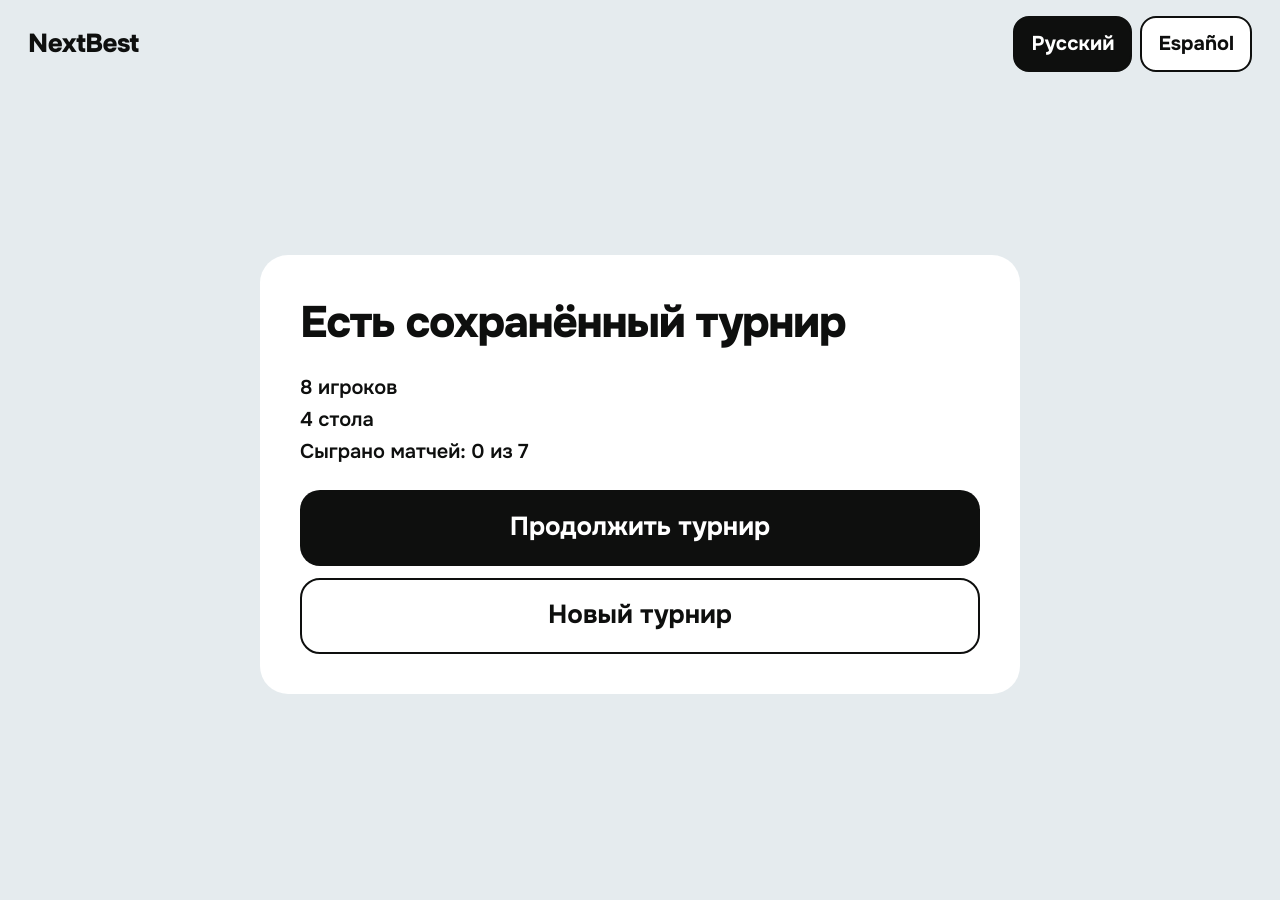
results panel › names later rounds
Click the button "Продолжить турнир".
click(640, 528)  # box [300,490,980,566]
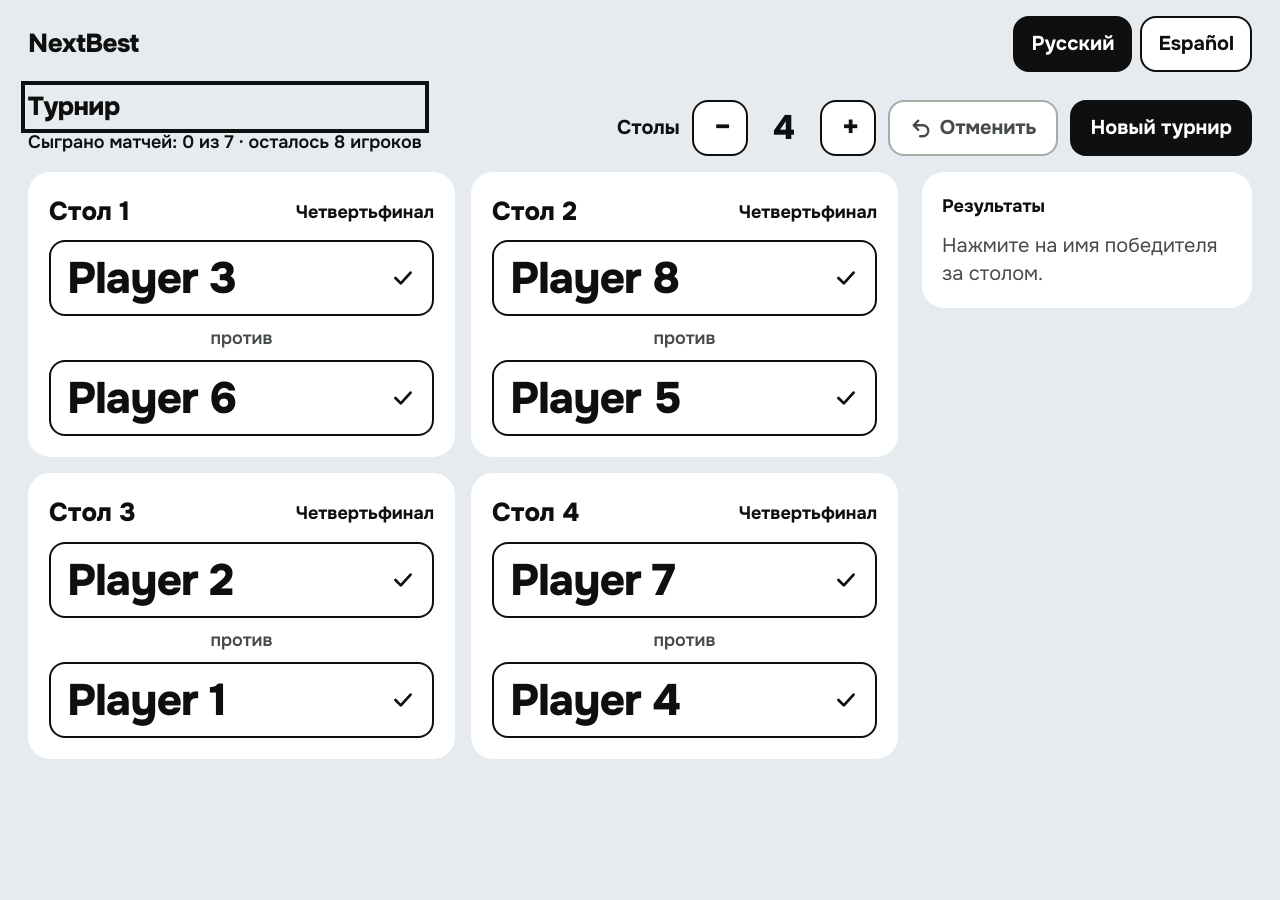
Click the button "Player 3".
click(151, 278)  # box [49,240,434,316]
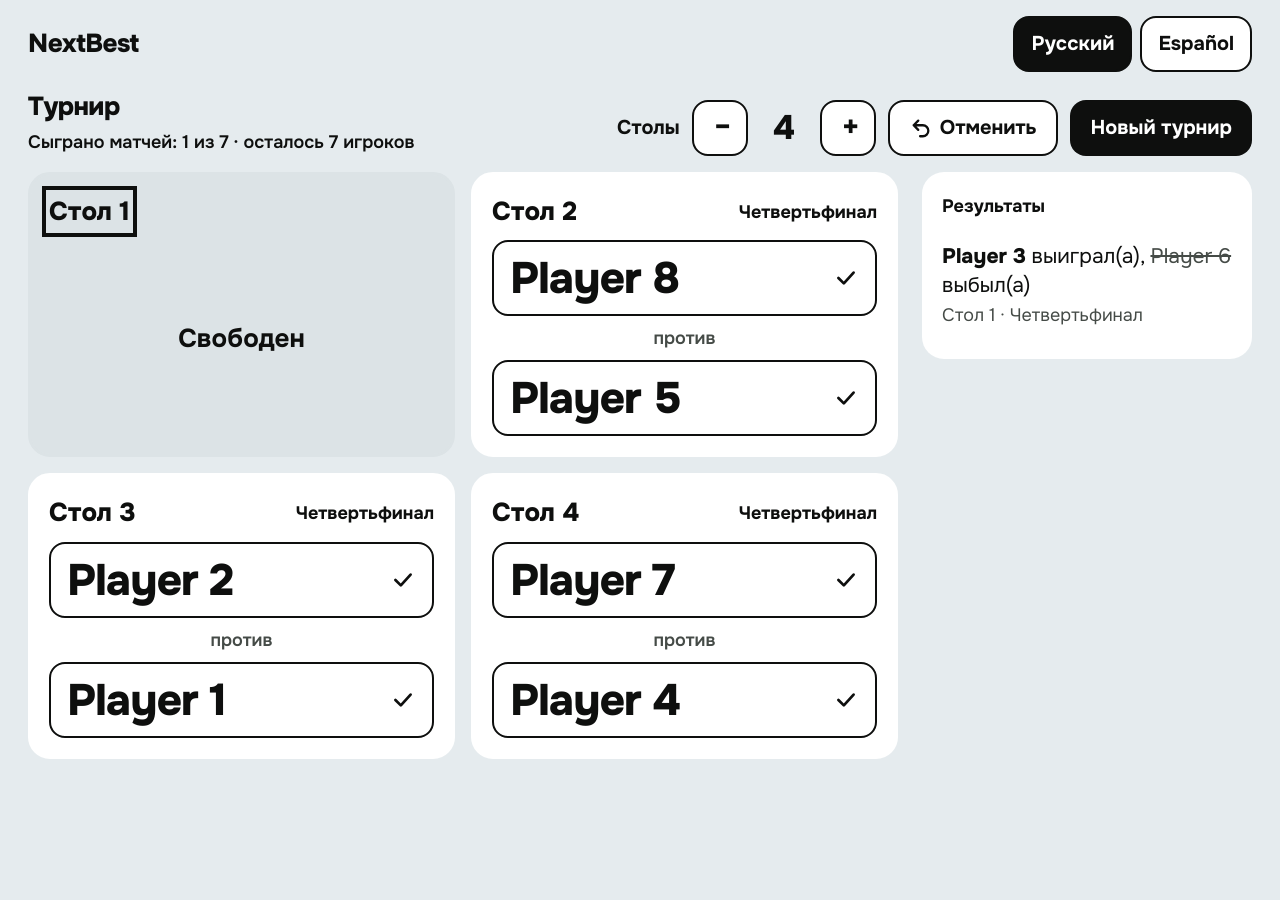
Click the button "Player 8".
click(595, 278)  # box [492,240,877,316]
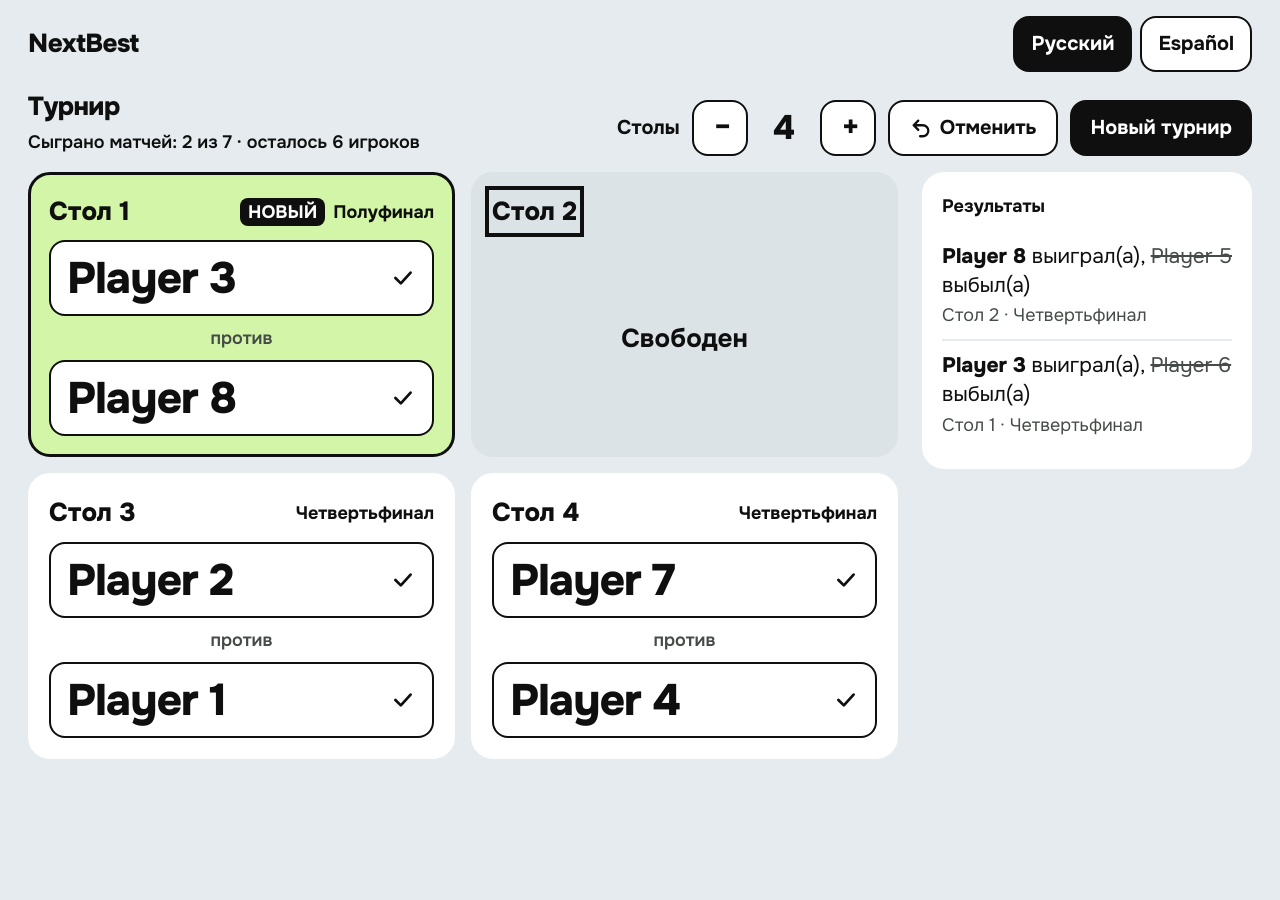
Click the button "Player 3".
click(151, 278)  # box [49,240,434,316]
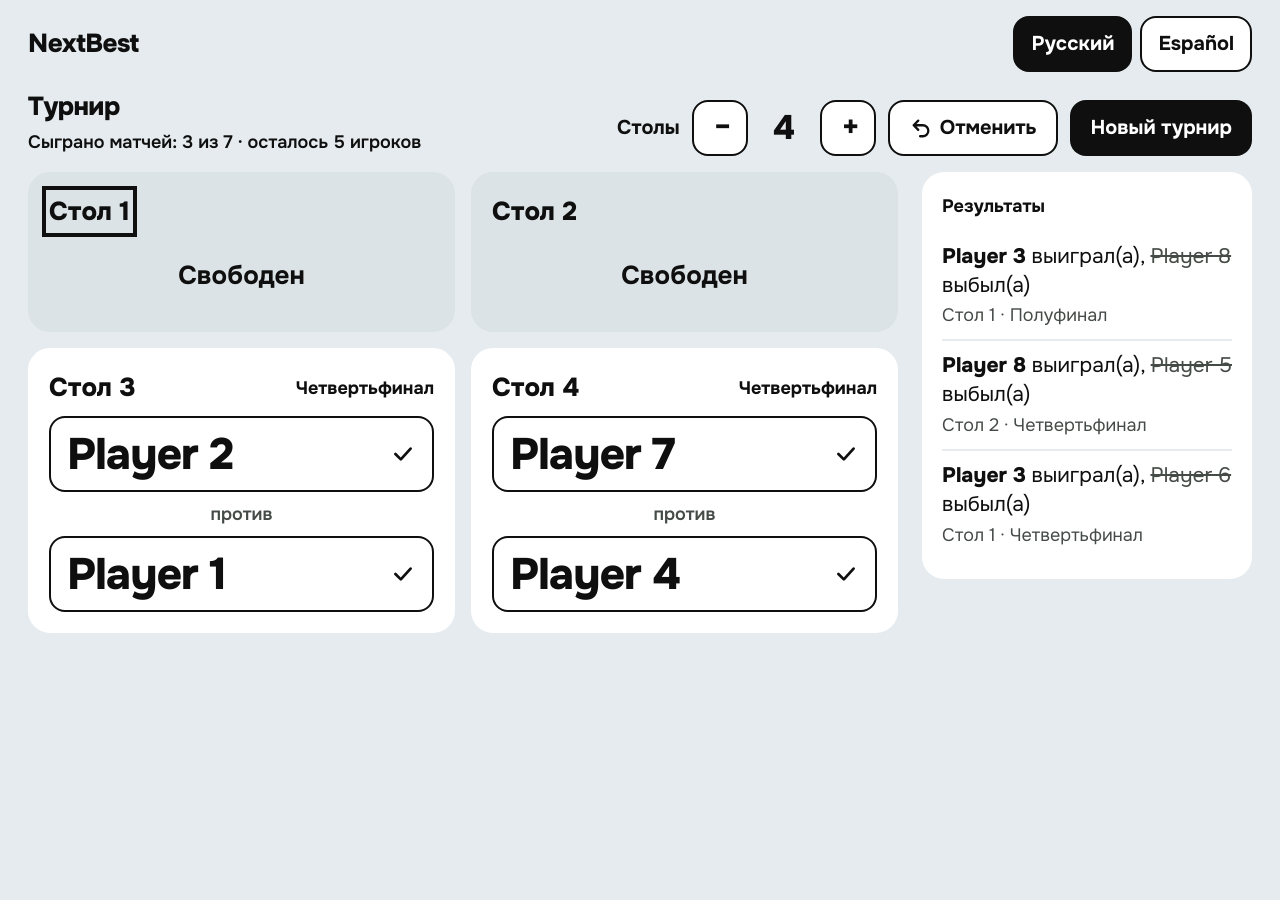
Check: the text "Стол 1 · Четвертьфинал" is shown, box [942,524,1143,546]
Check: the text "Стол 1 · Полуфинал" is shown, box [942,304,1107,326]
